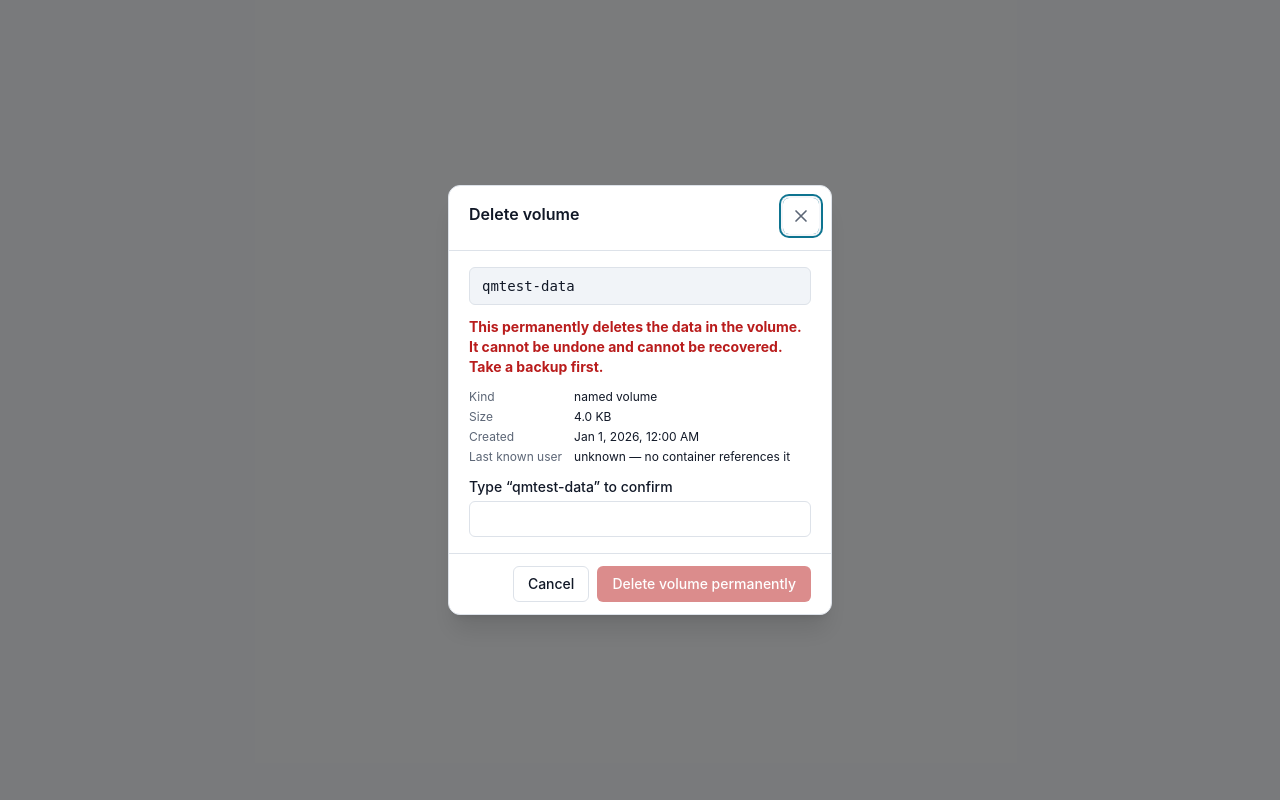
Test: RemoveVolumeDialog › keeps the dialog open and shows the server refusal
Type "qmtest-data" into the field at x=640, y=519, box [469,501,811,537]
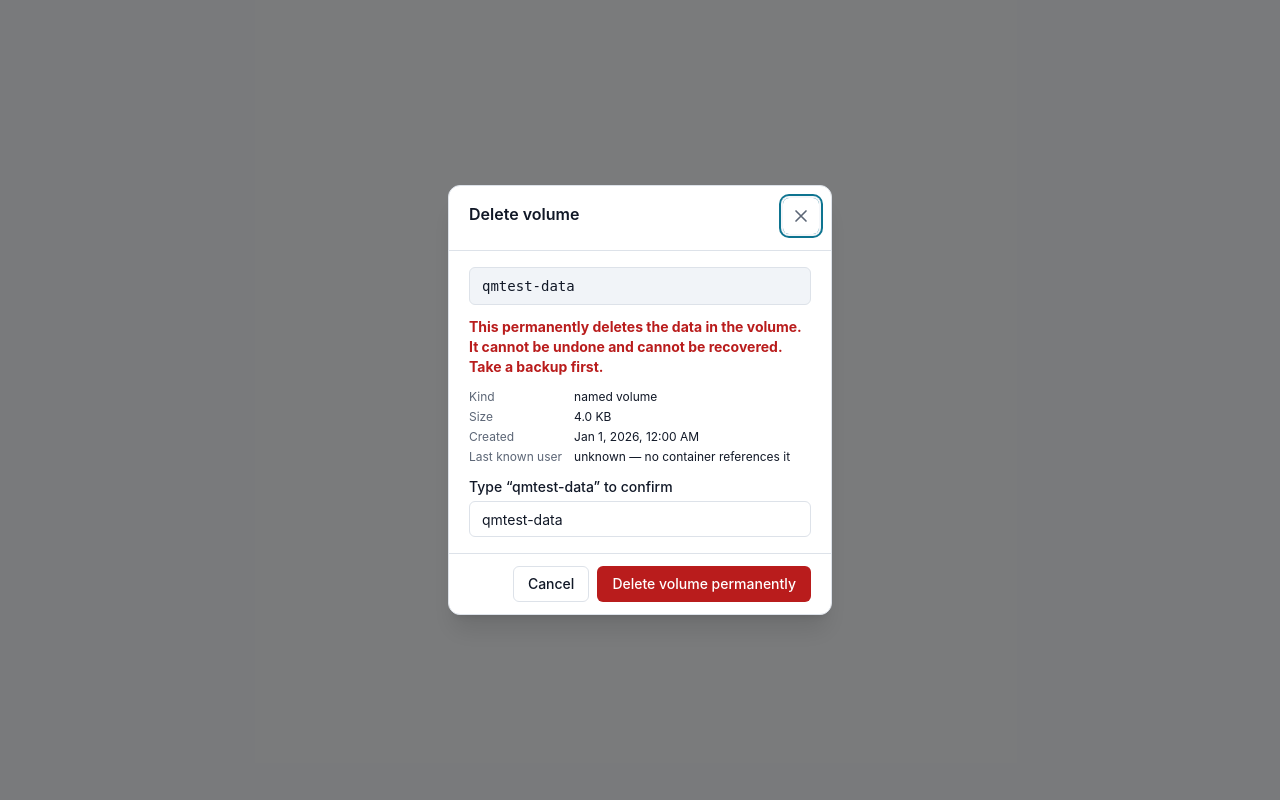
Click the button "Delete volume permanently" at x=704, y=584, box [597,566,811,602]
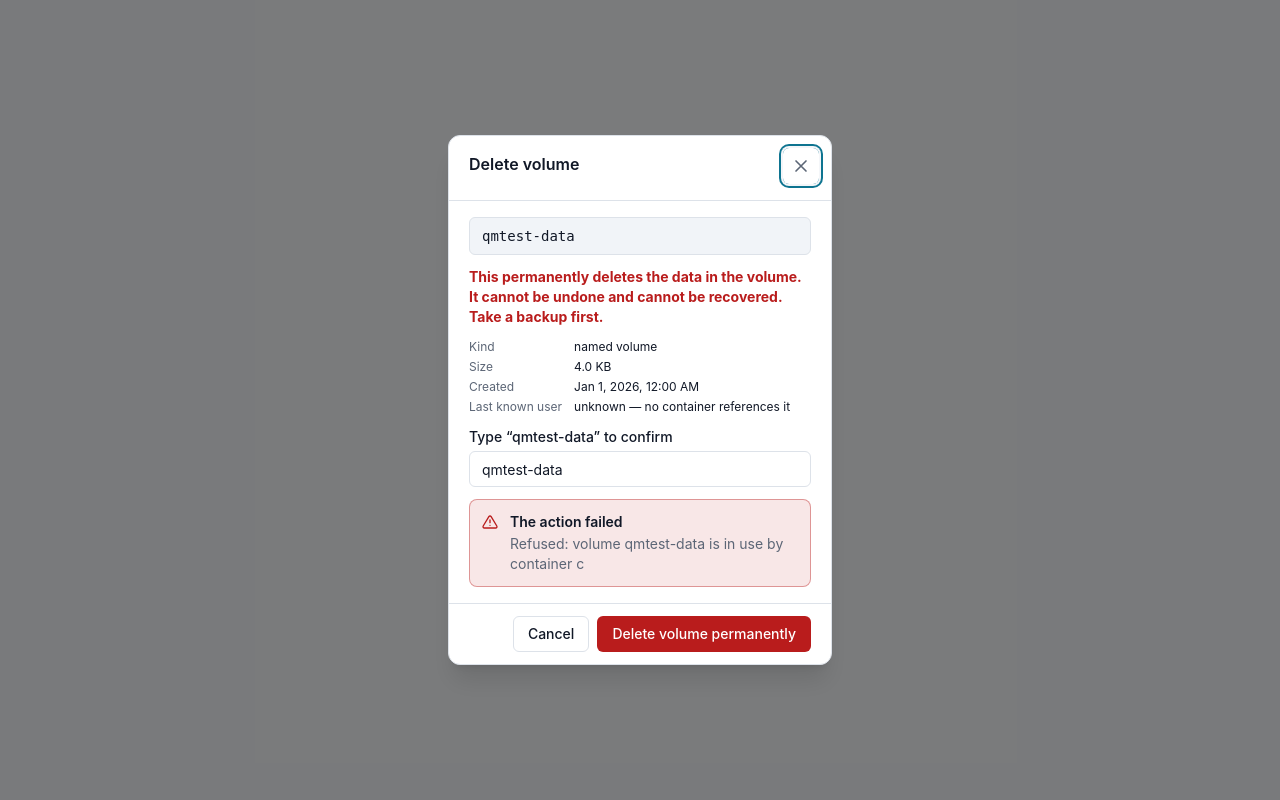
Expected: the text "Refused: volume qmtest-data is in use by container c" is shown, [510,534,798,574]
